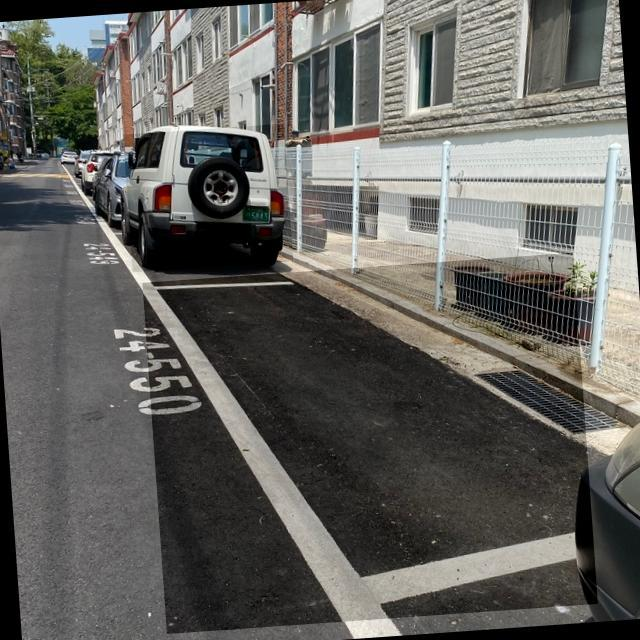empty: (143, 276, 586, 621)
occupied: (122, 124, 292, 272)
